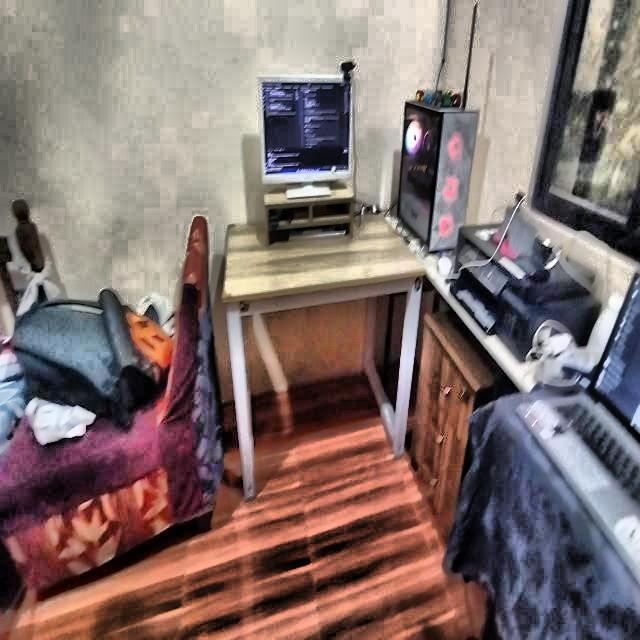mesa: (218, 206, 432, 504)
